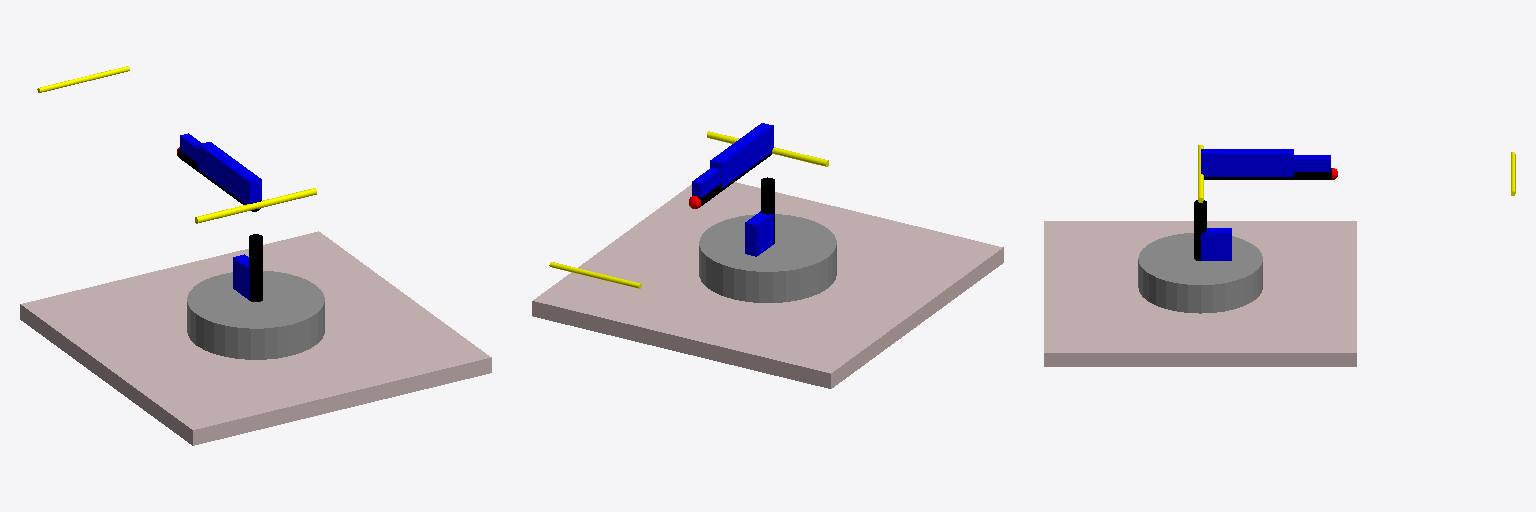
URDF robot description (threeDOF):
<?xml version="1.0"?>

<robot name="threeDOF">
  
  <!-- *************************************************** -->
  <!-- ******************** Kinematics ******************* -->
  <!-- *************************************************** -->
  <!-- Note the 'origin' tag in the joints defines the
       shift and reorientation before the continuous joint
       rotates around the 'axis'. -->

  <link name="world"/>

  <joint name="theta1" type="continuous">
    <parent link="world"/>
    <child  link="link1"/>
    <origin xyz="0 0 0" rpy="0 0 0"/>
    <axis   xyz="0 0 1"/>
  </joint>

  <link name="link1"/>

  <joint name="theta2" type="continuous">
    <parent link="link1"/>
    <child  link="link2"/>
    <origin xyz="0 0 0" rpy="0 0 0"/>
    <axis   xyz="1 0 0"/>
  </joint>

  <link name="link2"/>

  <joint name="theta3" type="continuous">
    <parent link="link2"/>
    <child  link="link3"/>
    <origin xyz="0 .167 0" rpy="0 0 0"/>
    <axis   xyz="1 0 0"/>
  </joint>

  <link name="link3"/>

  <joint name="shifttotip" type="fixed">
    <parent link="link3"/>
    <child  link="tip"/>
    <origin xyz="0 .254 0" rpy="0 0 0"/>
  </joint>

  <link name="tip"/>


  <!-- *************************************************** -->
  <!-- ********************* Graphics ******************** -->
  <!-- *************************************************** -->
  <!-- The following is purely to make this look roboticy. -->
  <!-- The 'origin' tag in the link/visual defines the
       center of the object (box, cylinder, sphere, mesh)
       but does not affect the joint chain kinematics. -->

  <!-- *************** Materials / Colors **************** -->

  <material name="white">    <color rgba="1.00 1.00 1.00 1"/>  </material>
  <material name="gray">     <color rgba="0.60 0.60 0.60 1"/>  </material>
  <material name="table">    <color rgba="0.85 0.77 0.77 1"/>  </material>
  <material name="black">    <color rgba="0.00 0.00 0.00 1"/>  </material>

  <material name="red">      <color rgba="1.00 0.00 0.00 1"/>  </material>
  <material name="green">    <color rgba="0.00 1.00 0.00 1"/>  </material>
  <material name="blue">     <color rgba="0.00 0.00 1.00 1"/>  </material>

  <material name="cyan">     <color rgba="0.00 1.00 1.00 1"/>  </material>
  <material name="magenta">  <color rgba="1.00 0.00 1.00 1"/>  </material>
  <material name="yellow">   <color rgba="1.00 1.00 0.00 1"/>  </material>

  <material name="orange">   <color rgba="1.00 0.65 0.00 1"/>  </material>


  <!-- *** Table - attached to world *** -->

  <joint name="attach-table" type="fixed">
    <parent link="world"/>
    <child  link="table"/>
  </joint>

  <link name="table">
    <visual>
      <origin xyz="0 0 -0.425" rpy="0 0 0"/>
      <geometry>
	<box size="1.0 1.0 0.05"/>
      </geometry>
      <material name="table"/>
    </visual>
  </link>

  <!-- *** Yaw Motor - attached to world *** -->

  <joint name="attach-yawmotor" type="fixed">
    <parent link="world"/>
    <child  link="yawmotor"/>
  </joint>

  <link name="yawmotor">
    <visual>
      <origin xyz="0 0 -0.35" rpy="0 0 0"/>
      <geometry>
	<cylinder length="0.1" radius="0.2"/>
      </geometry>
      <material name="gray"/>
    </visual>
  </link>

  <!-- *** Link 1 Bar - attached to link1 (yaw joint output) *** -->

  <joint name="attach-link1bar" type="fixed">
    <parent link="link1"/>
    <child  link="link1bar"/>
  </joint>

  <link name="link1bar">
    <visual>
      <origin xyz="0 0 -0.2" rpy="0 0 0"/>
      <geometry>
	<cylinder length="0.2" radius="0.02"/>
      </geometry>
      <material name="black"/>
    </visual>
  </link>

  <!-- *** Link 1 Sail - attached to link1 (yaw joint output) *** -->

  <joint name="attach-link1sail" type="fixed">
    <parent link="link1"/>
    <child  link="link1sail"/>
  </joint>

  <link name="link1sail">
    <visual>
      <origin xyz="0 0.05 -0.25" rpy="0 0 0"/>
      <geometry>
      	<box size="0.04 0.1 0.1"/>
      </geometry>
      <material name="blue"/>
    </visual>
  </link>

  <!-- *** Pitch 1 Motor - attached to link1 (yaw joint output) *** -->

  <joint name="attach-pitch1motor" type="fixed">
    <parent link="link1"/>
    <child  link="pitch1motor"/>
  </joint>

  <link name="pitch1motor">
    <visual>
      <origin xyz="0 0 0" rpy="0 1.5708 0"/>
      <geometry>
	<cylinder length="0.4" radius="0.01"/>
      </geometry>
      <material name="yellow"/>
    </visual>
  </link>

  <!-- *** Link 2 Bar - attached to link2 (pitch1 joint output) *** -->

  <joint name="attach-link2bar" type="fixed">
    <parent link="link2"/>
    <child  link="link2bar"/>
  </joint>

  <link name="link2bar">
    <visual>
      <origin xyz="0 .0835 0" rpy="-1.5708 0 0"/>
      <geometry>
	<cylinder length=".167" radius="0.02"/>
      </geometry>
      <material name="black"/>
    </visual>
  </link>

  <!-- *** Link 2 Sail - attached to link2 (pitch1 joint output) *** -->

  <joint name="attach-link2sail" type="fixed">
    <parent link="link2"/>
    <child  link="link2sail"/>
  </joint>

  <link name="link2sail">
    <visual>
      <origin xyz="0 0.15 0.04" rpy="0 0 0"/>
      <geometry>
      	<box size="0.04 0.3 0.08"/>
      </geometry>
      <material name="blue"/>
    </visual>
  </link>

  <!-- *** Pitch 2 Motor - attached to link1 (yaw joint output) *** -->

  <joint name="attach-pitch2motor" type="fixed">
    <parent link="link2"/>
    <child  link="pitch2motor"/>
  </joint>

  <link name="pitch2motor">
    <visual>
      <origin xyz="0 1 0" rpy="0 1.5708 0"/>
      <geometry>
	<cylinder length="0.3" radius="0.008"/>
      </geometry>
      <material name="yellow"/>
    </visual>
  </link>

  <!-- *** Link 3 Bar - attached to link3 (pitch2 joint output) *** -->

  <joint name="attach-link3bar" type="fixed">
    <parent link="link3"/>
    <child  link="link3bar"/>
  </joint>

  <link name="link3bar">
    <visual>
      <origin xyz="0 .127 0" rpy="-1.5708 0 0"/>
      <geometry>
	<cylinder length=".254" radius="0.02"/>
      </geometry>
      <material name="black"/>
    </visual>
  </link>

  <!-- *** Link 3 Sail - attached to link3 (pitch2 joint output) *** -->

  <joint name="attach-link3sail" type="fixed">
    <parent link="link3"/>
    <child  link="link3sail"/>
  </joint>

  <link name="link3sail">
    <visual>
      <origin xyz="0 0.125 0.03" rpy="0 0 0"/>
      <geometry>
      	<box size="0.03 0.25 0.06"/>
      </geometry>
      <material name="blue"/>
    </visual>
  </link>

  <!-- *** Tip Ball - attached to tip *** -->

  <joint name="attach-tipball" type="fixed">
    <parent link="tip"/>
    <child  link="tipball"/>
  </joint>

  <link name="tipball">
    <visual>
      <origin xyz="0 0 0" rpy="0 0 0"/>
      <geometry>
      	<sphere radius="0.02"/>
      </geometry>
      <material name="red"/>
    </visual>
  </link>

</robot>

--- Facts derived from the render (not from the file) ---
The picture shows the robot from 3 angles, left to right: view 1: azimuth 30°, elevation 25°; view 2: azimuth 150°, elevation 25°; view 3: azimuth 270°, elevation 25°; orthographic projection.
Model threeDOF with 16 links and 15 joints (3 continuous, 12 fixed), rooted at world, posed all joints at 0.
Links seen in each view (by area): view 1: table, yawmotor, link2sail, link1bar, pitch1motor, link1sail; view 2: table, yawmotor, link2sail, link1sail, pitch1motor, link3sail, link1bar; view 3: table, yawmotor, link2sail, link1sail, link3sail, link1bar.
Link boxes in pixels (x1,y1,x2,y2): table: (20,231,491,445); yawmotor: (187,271,324,359); link2sail: (198,142,261,204); link1bar: (249,234,262,301); pitch1motor: (195,188,316,223); link1sail: (233,254,249,300); table: (532,182,1003,388); yawmotor: (699,214,836,302); link2sail: (710,123,773,187); link1sail: (745,211,773,256); pitch1motor: (707,131,828,166); link3sail: (692,167,720,198); link1bar: (761,177,774,243); table: (1044,221,1356,366); yawmotor: (1138,233,1262,313); link2sail: (1201,149,1293,176); link1sail: (1201,228,1231,260); link3sail: (1294,155,1330,171); link1bar: (1194,200,1206,260).
Bounding box of the posed robot: 1 × 1.51 × 0.53 m (x, y, z).
Geometry: primitives only (box / cylinder / sphere), no mesh files.